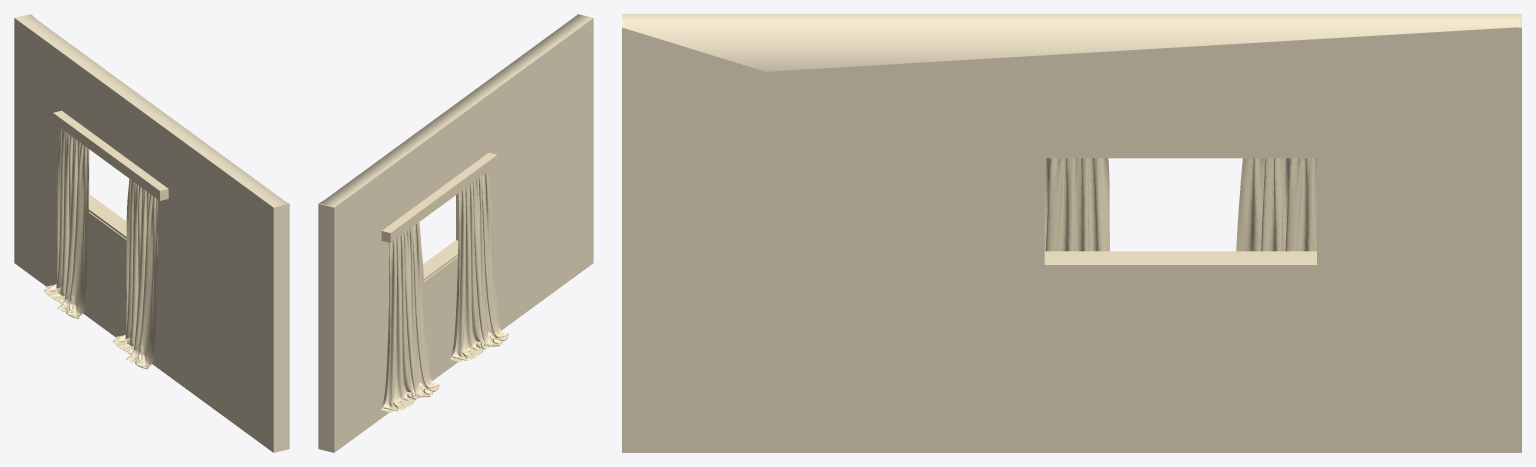
File: M_Pared Ventana.fbx
3 views of the same model, side by side, from view 1: azimuth 30°, elevation 25°; view 2: azimuth 150°, elevation 25°; view 3: azimuth 270°, elevation 25° (orthographic). The views are drawn at different scales.
Visible parts, largest first — view 1: pared_ventana, curtain_2:curtain, curtain, pCube21; view 2: pared_ventana, curtain_2:curtain, curtain, pCube21; view 3: pared_ventana, curtain_2:curtain, curtain.
Boxes of the visible parts, box(x1,y1,x2,y2) form: pared_ventana: box(14, 14, 289, 452); curtain_2:curtain: box(44, 128, 88, 318); curtain: box(113, 179, 157, 369); pCube21: box(53, 110, 168, 200); pared_ventana: box(318, 14, 593, 452); curtain_2:curtain: box(381, 222, 439, 412); curtain: box(450, 171, 508, 361); pCube21: box(381, 153, 497, 242); pared_ventana: box(622, 14, 1521, 452); curtain_2:curtain: box(1236, 158, 1316, 251); curtain: box(1044, 158, 1109, 251).
Bounding box in the file's own units: 8.43 × 45.86 × 87.91.
